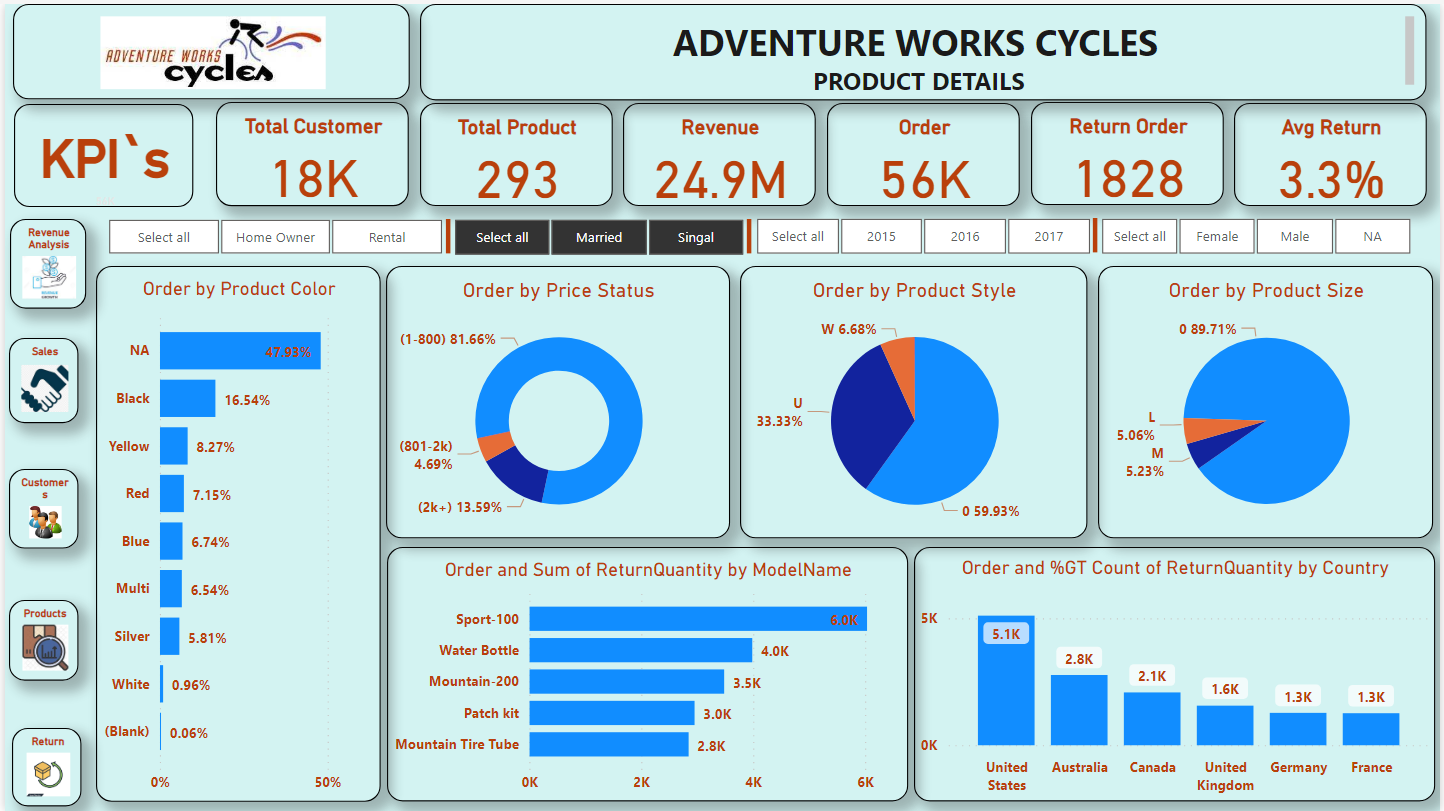

The page's visual inventory and layout, read from the dashboard file:
{"tool":"powerbi","page":{"name":"Product","canvas":[1280,720],"ordinal":3},"visuals":[{"type":"card","title":"Revenue","fields":{"Values":["All Measures.to Revenue"]},"box":[551.6,88.2,172,91.6],"z":0},{"type":"card","title":"Order","fields":{"Values":["All Measures.Total Order"]},"box":[733.3,88.2,172,91.6],"z":1000},{"type":"card","title":"Return Order","fields":{"Values":["All Measures.Return Order"]},"box":[915,87.8,172,92],"z":2000},{"type":"card","title":"Avg Return","fields":{"Values":["All Measures.Avg Return"]},"box":[1096.7,88.2,172,91.6],"z":3000},{"type":"card","title":"Total Product","fields":{"Values":["All Measures.Total Product"]},"box":[369.9,88.2,172,91.6],"z":4000},{"type":"card","title":"Total Customer","fields":{"Values":["All Measures.Total Customer"]},"box":[188.2,87.2,172,92.6],"z":5000},{"type":"clusteredBarChart","title":"Order and Sum of ReturnQuantity by ModelName","fields":{"Category":["D_Product.ModelName"],"Y":["All Measures.Total Order"]},"box":[340.8,484.5,464.6,226.9],"z":6000},{"type":"donutChart","title":"Order by Price Status","fields":{"Category":["D_Product.Price Status"],"Y":["All Measures.Total Order"]},"box":[340,233.3,306.7,243.3],"z":7000},{"type":"barChart","title":"Order by Product Color","fields":{"Category":["D_Product.ProductColor"],"Y":["All Measures.Total Order"]},"box":[81.2,233.8,253.6,477.5],"z":8000},{"type":"lineStackedColumnComboChart","title":"Order and %GT Count of ReturnQuantity by Country","fields":{"Category":["D_Territe.Country"],"Y":["All Measures.Total Order"]},"box":[811.4,484.5,464.6,226.9],"z":9000},{"type":"pieChart","title":"Order by Product Size","fields":{"Category":["D_Product.ProductSize"],"Y":["All Measures.Total Order"]},"box":[975.6,233.3,298.9,243.3],"z":10000},{"type":"pieChart","title":"Order by Product Style","fields":{"Category":["D_Product.ProductStyle"],"Y":["All Measures.Total Order"]},"box":[655.6,233.3,310,243.3],"z":11000},{"type":"textbox","box":[370.3,0,898,85.5],"z":13000},{"type":"image","title":"Products","box":[4,532,62.4,72.3],"z":14000},{"type":"image","title":"Revenue Analysis","box":[4.4,191.4,67.6,79.9],"z":15000},{"type":"image","title":"Return","box":[5.9,645.9,62.4,70.3],"z":16000},{"type":"image","title":"Sales","box":[4,298.2,62.4,76.3],"z":17000},{"type":"image","title":"Customers","box":[4,415.1,62.4,71.3],"z":18000},{"type":"slicer","fields":{"Values":["D_Customer.MaritalStatus"]},"box":[375.5,185.3,307.1,44.6],"z":19000},{"type":"slicer","fields":{"Values":["D_Customer.HomeOwner"]},"box":[66.7,185.3,346.8,43.9],"z":20000},{"type":"slicer","fields":{"Values":["D_Customer.Gender"]},"box":[953.1,184.3,325,44.6],"z":21000},{"type":"slicer","fields":{"Values":["D_Calender.Year"]},"box":[645,184.3,346.7,44.6],"z":22000},{"type":"image","box":[6.8,0,353.8,84.6],"z":23000},{"type":"shape","box":[376.7,191.4,37.8,30.7],"z":24000},{"type":"shape","box":[954.1,191.2,37.6,30.7],"z":25000},{"type":"shape","box":[645,192.2,37.6,30.7],"z":26000},{"type":"card","title":"KPI`s","fields":{"Values":["All Measures.Total Order"]},"box":[7.9,89,160.5,92.1],"z":27000}]}

Visuals, with their boxes in screenshot pixels (x1, y1, x2, y2), scaled from the page's 1280x720 canvas onto the 1444x811 screenshot:
"Revenue" card: <bbox>622, 99, 816, 203</bbox>
"Order" card: <bbox>827, 99, 1021, 203</bbox>
"Return Order" card: <bbox>1032, 99, 1226, 203</bbox>
"Avg Return" card: <bbox>1237, 99, 1431, 203</bbox>
"Total Product" card: <bbox>417, 99, 611, 203</bbox>
"Total Customer" card: <bbox>212, 98, 406, 203</bbox>
"Order and Sum of ReturnQuantity by ModelName" clusteredBarChart: <bbox>384, 546, 909, 801</bbox>
"Order by Price Status" donutChart: <bbox>384, 263, 730, 537</bbox>
"Order by Product Color" barChart: <bbox>92, 263, 378, 801</bbox>
"Order and %GT Count of ReturnQuantity by Country" lineStackedColumnComboChart: <bbox>915, 546, 1439, 801</bbox>
"Order by Product Size" pieChart: <bbox>1101, 263, 1438, 537</bbox>
"Order by Product Style" pieChart: <bbox>740, 263, 1089, 537</bbox>
textbox: <bbox>418, 0, 1431, 96</bbox>
"Products" image: <bbox>5, 599, 75, 681</bbox>
"Revenue Analysis" image: <bbox>5, 216, 81, 306</bbox>
"Return" image: <bbox>7, 728, 77, 807</bbox>
"Sales" image: <bbox>5, 336, 75, 422</bbox>
"Customers" image: <bbox>5, 468, 75, 548</bbox>
slicer - D_Customer.MaritalStatus: <bbox>424, 209, 770, 259</bbox>
slicer - D_Customer.HomeOwner: <bbox>75, 209, 466, 258</bbox>
slicer - D_Customer.Gender: <bbox>1075, 208, 1442, 258</bbox>
slicer - D_Calender.Year: <bbox>728, 208, 1119, 258</bbox>
image: <bbox>8, 0, 407, 95</bbox>
shape: <bbox>425, 216, 468, 250</bbox>
shape: <bbox>1076, 215, 1119, 250</bbox>
shape: <bbox>728, 216, 770, 251</bbox>
"KPI`s" card: <bbox>9, 100, 190, 204</bbox>
